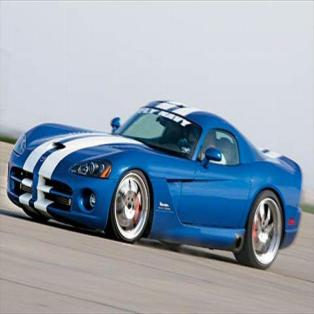Auto: (6, 98, 302, 272)
